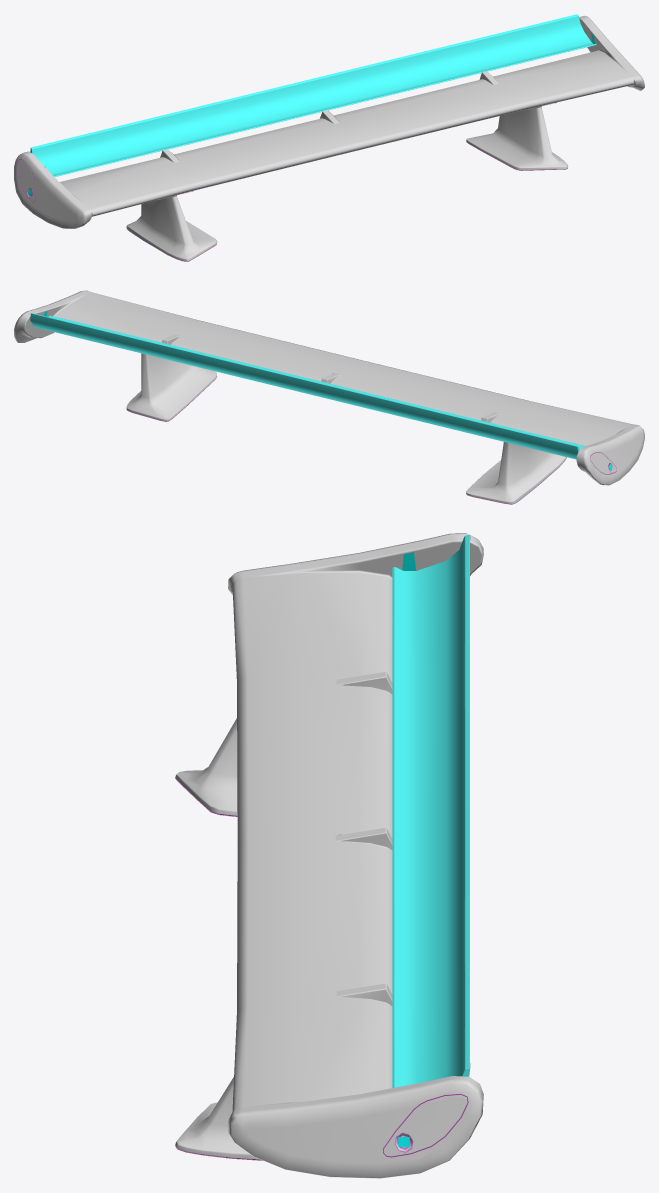
Rendered from Car_Nissan_SkylineGTRVspecR34_1999_Spoiler_SetA.fbx.
3 renders of one model, top to bottom at view 1: azimuth 30°, elevation 25°; view 2: azimuth 150°, elevation 25°; view 3: azimuth 270°, elevation 25°, orthographic. The views are drawn at different scales.
Visible parts, largest first — view 1: Spoiler 6; view 2: Spoiler 6; view 3: Spoiler 6.
Boxes of the visible parts, bbox=[...] form: Spoiler 6: bbox=[14, 14, 644, 261]; Spoiler 6: bbox=[14, 290, 644, 504]; Spoiler 6: bbox=[175, 533, 483, 1178].
Bounding box in the file's own units: 1.39 × 0.201 × 0.3152.
